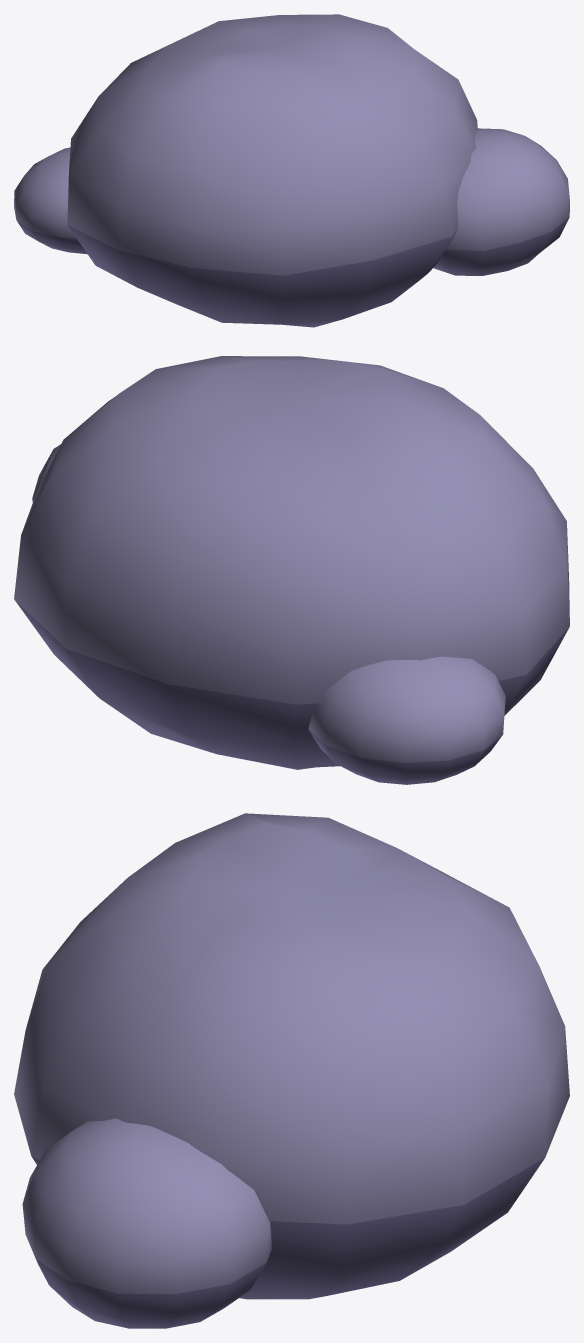
The model's file is rock.glb.
3 renders of one model, top to bottom at view 1: azimuth 30°, elevation 25°; view 2: azimuth 150°, elevation 25°; view 3: azimuth 270°, elevation 25°, orthographic. The views are drawn at different scales.
Parts seen in each view (by area): view 1: rock:mesh; view 2: rock:mesh; view 3: rock:mesh.
Part boxes in pixels (box(x1,y1,x2,y2)): rock:mesh: box(14, 14, 569, 327); rock:mesh: box(14, 356, 569, 784); rock:mesh: box(14, 813, 569, 1328).
Bounding box in the file's own units: 1.57 × 0.9422 × 1.19.
